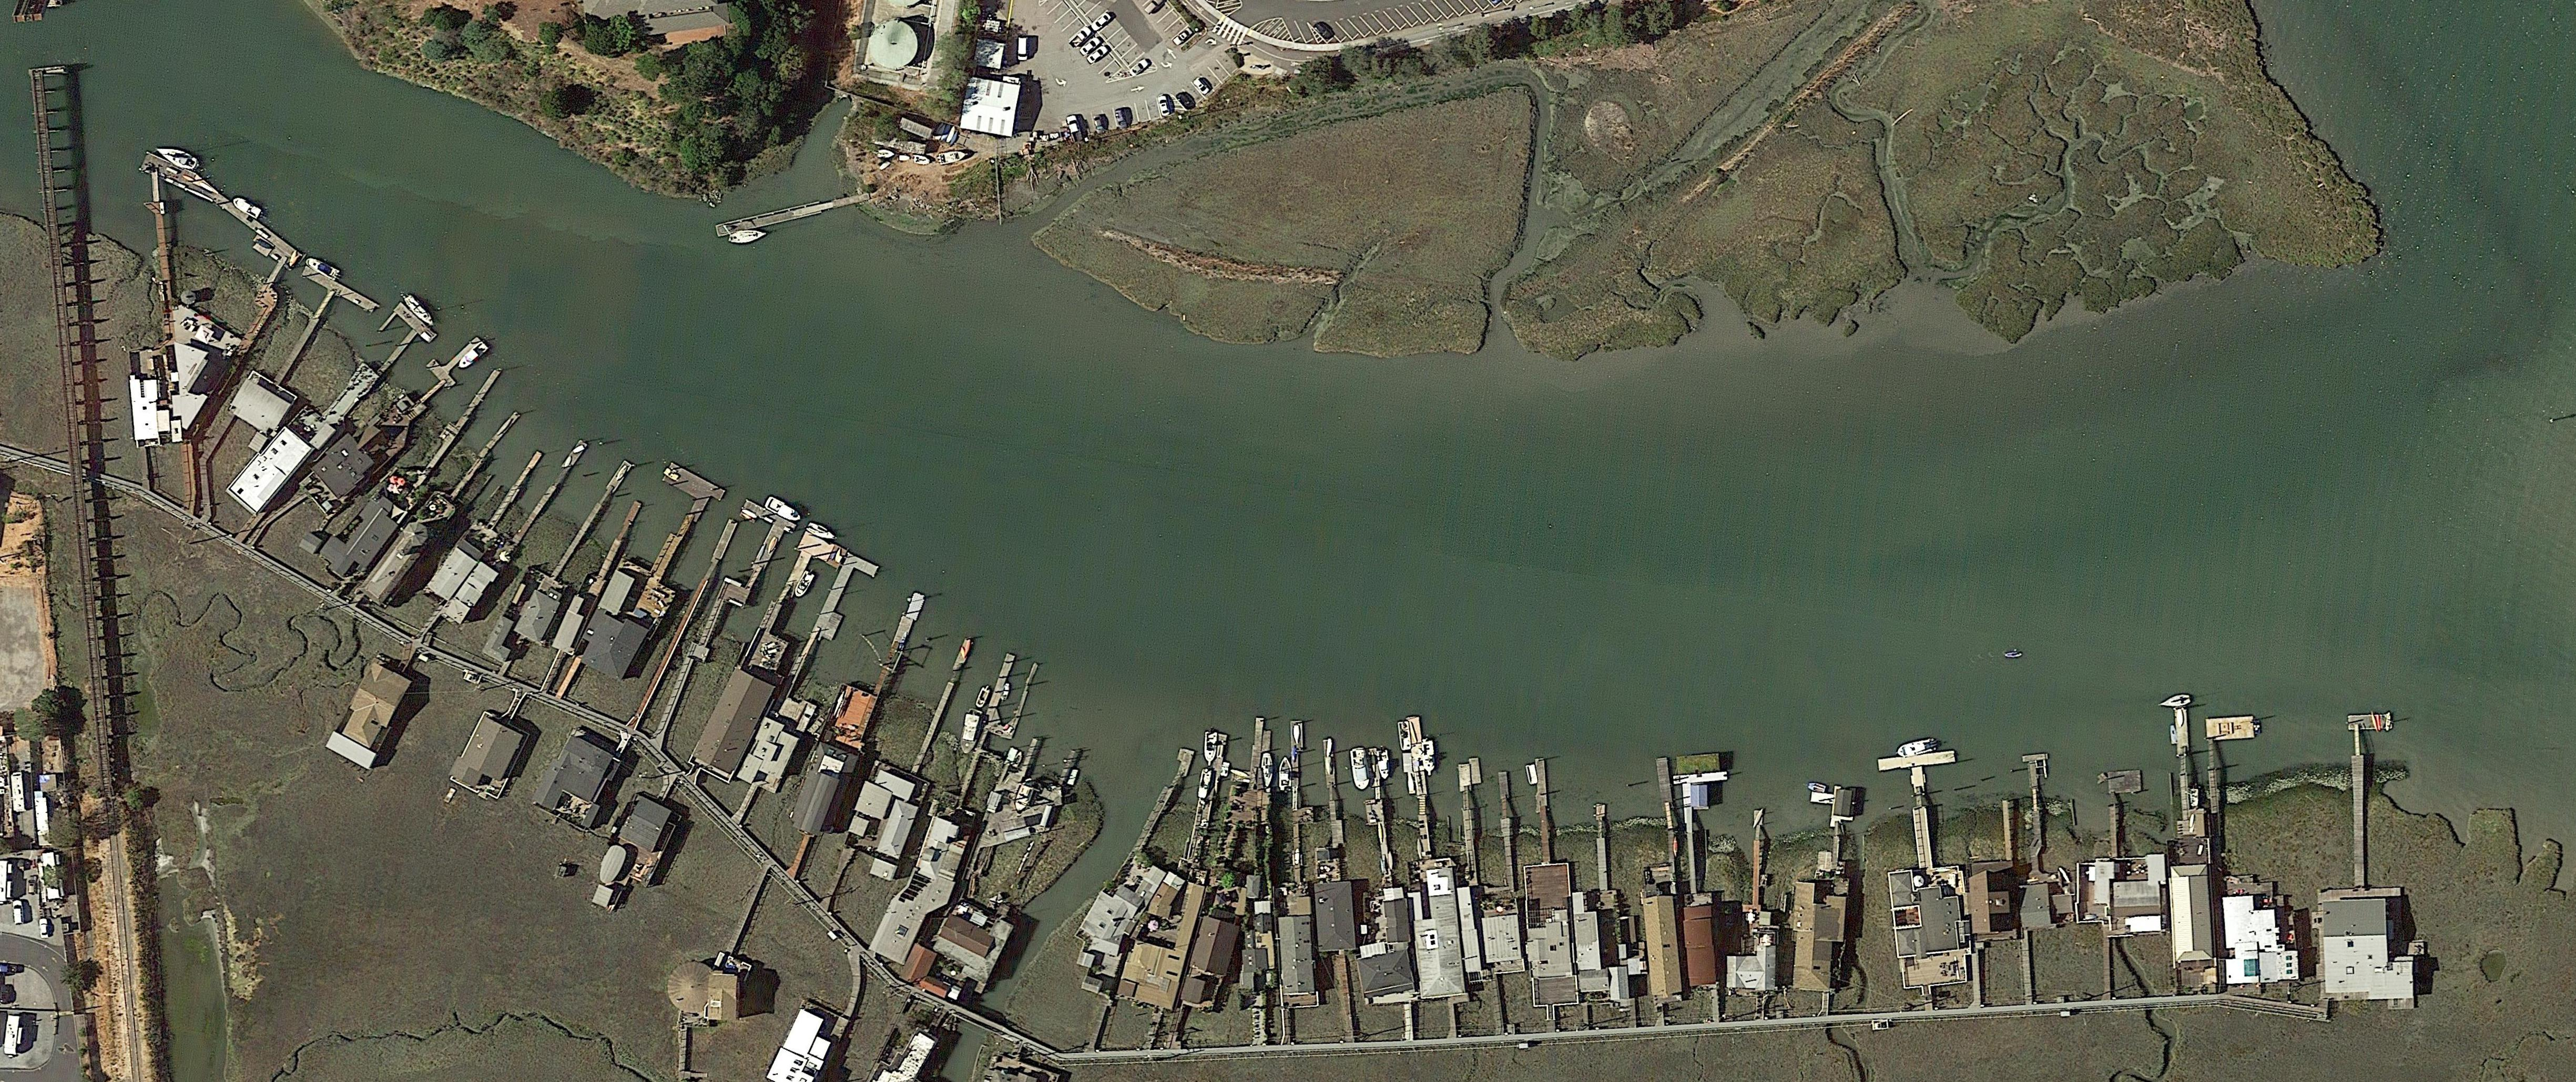harbor: (672, 498, 798, 673), (136, 145, 306, 266), (636, 518, 739, 715), (251, 265, 378, 408), (744, 531, 848, 677), (624, 460, 726, 589), (790, 554, 879, 691), (959, 653, 1040, 799), (1878, 750, 1963, 870), (417, 365, 501, 475), (555, 459, 634, 572), (910, 638, 974, 773), (513, 439, 588, 544), (1672, 771, 1737, 895), (2348, 714, 2394, 881), (406, 326, 491, 409), (355, 301, 437, 386), (449, 409, 522, 502), (2205, 715, 2261, 837), (869, 590, 927, 701), (1801, 781, 1856, 876), (1188, 733, 1227, 860), (1398, 717, 1434, 850), (488, 449, 545, 528), (595, 500, 644, 582), (1360, 748, 1392, 873), (2021, 751, 2054, 863), (1291, 720, 1314, 868), (1653, 758, 1684, 867), (1459, 756, 1487, 875), (2108, 771, 2142, 855), (1324, 740, 1344, 858), (1534, 760, 1554, 863), (2173, 709, 2192, 809), (1498, 771, 1515, 876), (1748, 809, 1764, 906), (1594, 802, 1610, 891)
ship: (153, 141, 200, 174), (399, 291, 437, 329), (956, 707, 984, 756), (455, 339, 491, 372), (764, 495, 803, 525), (1347, 747, 1372, 793), (304, 255, 342, 281), (1896, 737, 1939, 760), (1012, 778, 1037, 814), (726, 227, 769, 247), (230, 194, 263, 219), (792, 569, 817, 602), (2157, 691, 2193, 712), (805, 520, 838, 543), (1419, 740, 1437, 776), (1194, 768, 1212, 801), (936, 148, 969, 166), (973, 684, 994, 710), (1375, 750, 1392, 781), (1278, 758, 1293, 793), (1260, 753, 1273, 789), (1204, 732, 1217, 766), (1523, 763, 1539, 786), (1806, 781, 1827, 796), (999, 682, 1014, 702), (1010, 750, 1024, 771), (1290, 724, 1301, 745), (874, 146, 894, 158), (2004, 650, 2024, 659), (913, 153, 930, 164), (897, 153, 912, 163)
